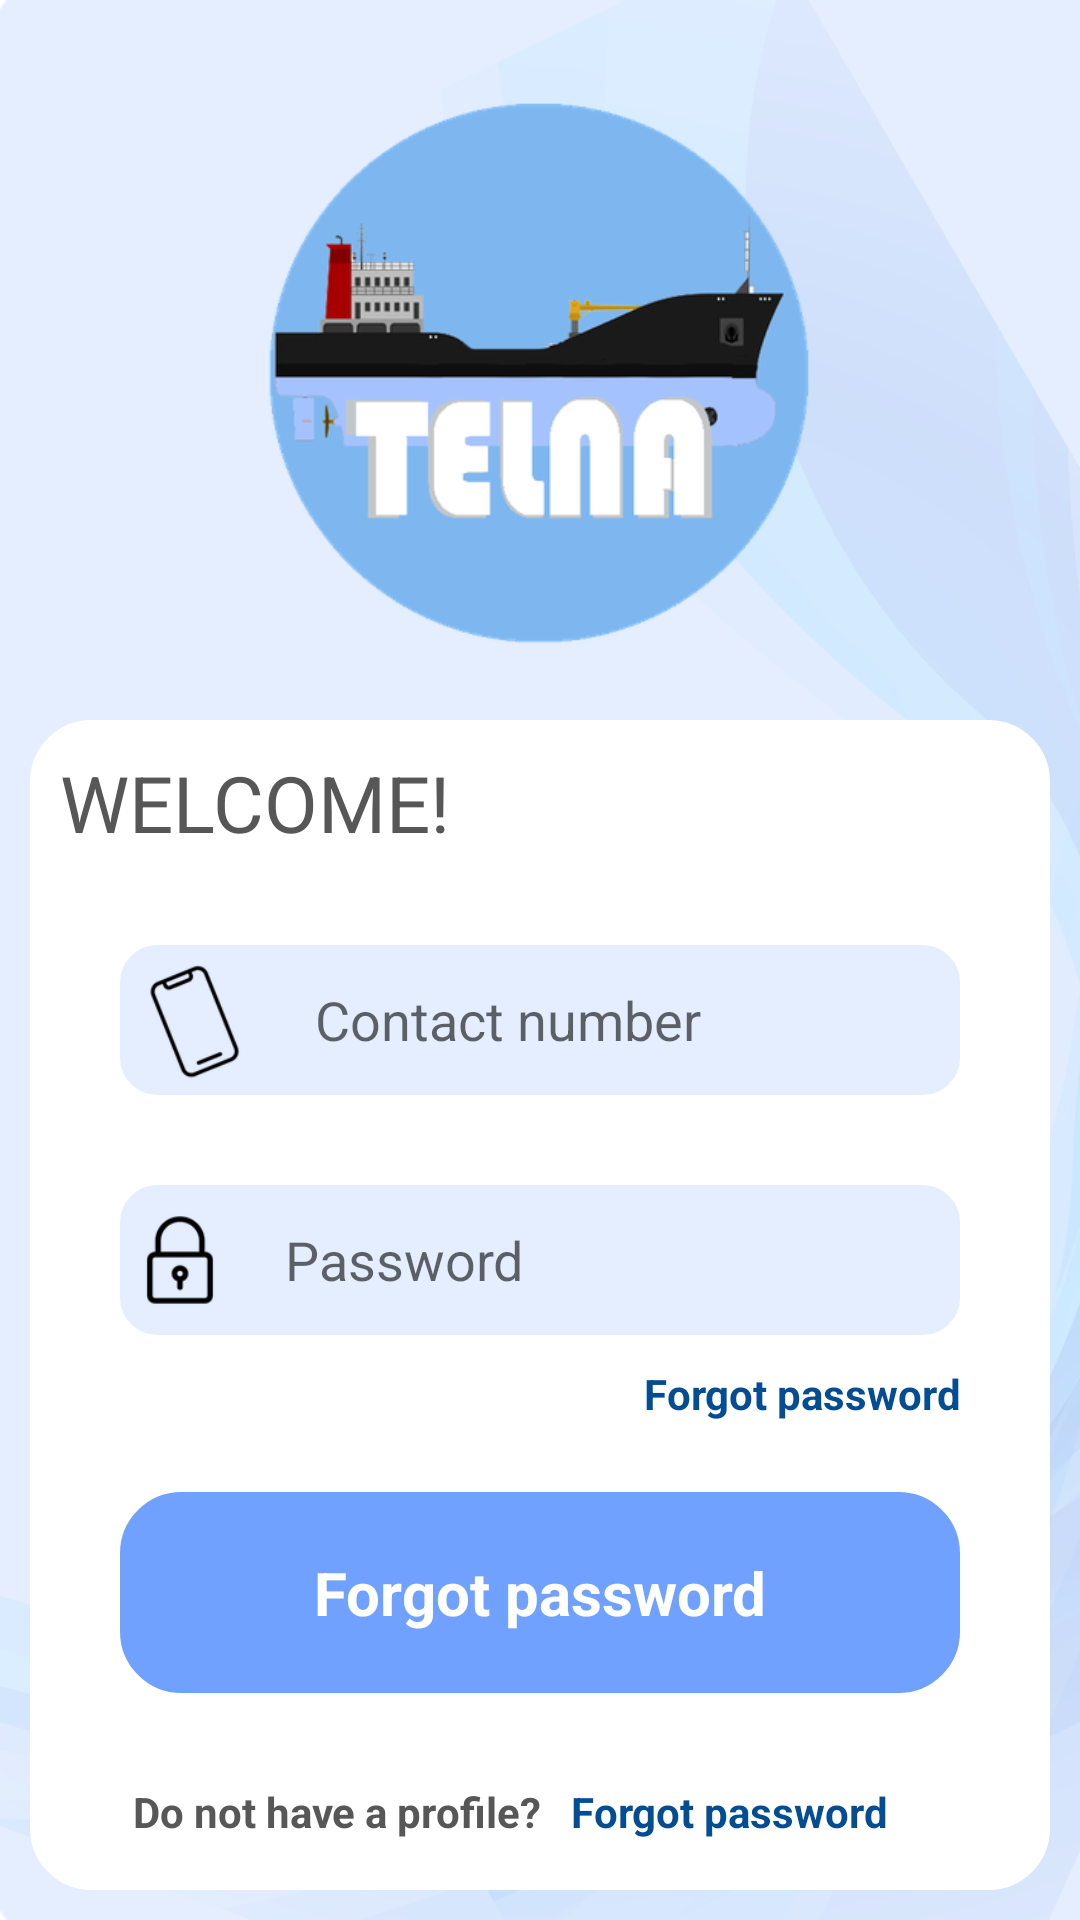

Named icons in this screenshot (1080px×1920px) and their bounding boxes, (x1, y1, x2, y2):
lock: (147, 1216, 213, 1304)
phone: (150, 965, 239, 1078)
